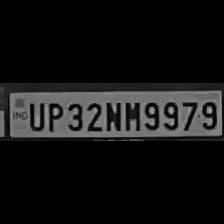2: (84, 99, 103, 131)
3: (63, 99, 83, 131)
7: (179, 98, 197, 130)
9: (196, 98, 218, 130), (140, 98, 160, 130), (160, 98, 178, 130)
M: (122, 98, 140, 132)
N: (102, 99, 122, 131)
P: (45, 99, 63, 131)
U: (26, 99, 44, 131)
